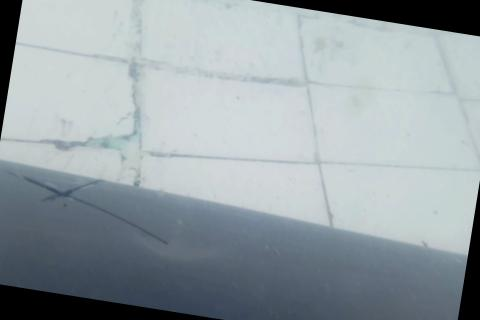keretakan: (0, 161, 180, 248)
